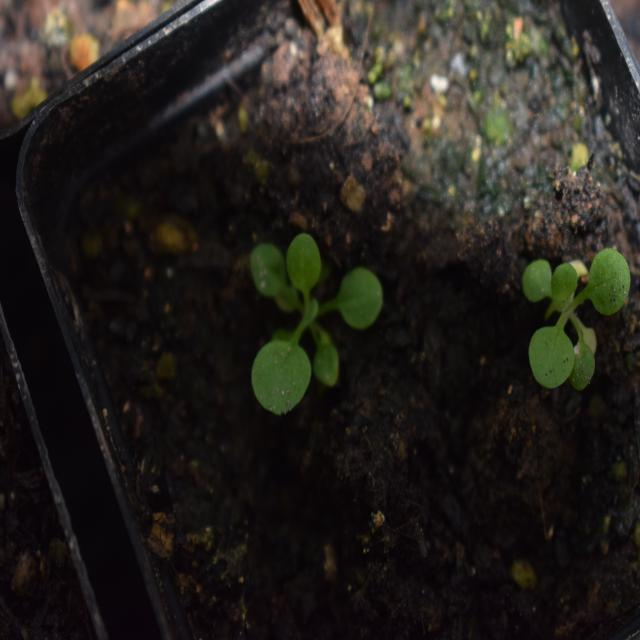Shepherd_Purse: (238, 230, 392, 427), (526, 238, 616, 374)
